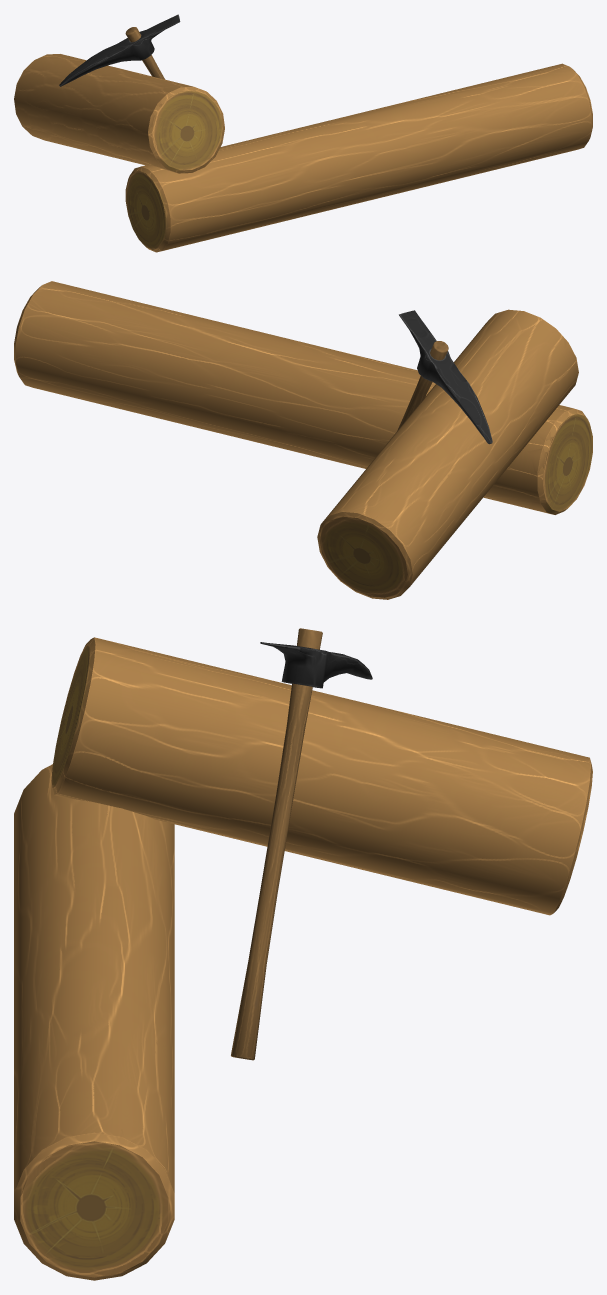
The model's file is kit_camp_03.FBX.
The picture shows the model from 3 angles, top to bottom: view 1: azimuth 30°, elevation 25°; view 2: azimuth 150°, elevation 25°; view 3: azimuth 270°, elevation 25°; orthographic projection. The views are drawn at different scales.
Visible parts, largest first — view 1: rondin_01, rondin_02, pioche; view 2: rondin_01, rondin_02, pioche; view 3: rondin_02, rondin_01, pioche.
Boxes of the visible parts, x1,y1,x2,y2 form: rondin_01: (125, 63, 592, 252); rondin_02: (14, 54, 224, 173); pioche: (59, 14, 180, 86); rondin_01: (14, 281, 592, 514); rondin_02: (317, 309, 578, 599); pioche: (397, 310, 492, 444); rondin_02: (51, 637, 592, 915); rondin_01: (14, 764, 174, 1280); pioche: (231, 628, 372, 1060).
Bounding box in the file's own units: 432 × 190 × 266.
2 materials, 2 textured.
